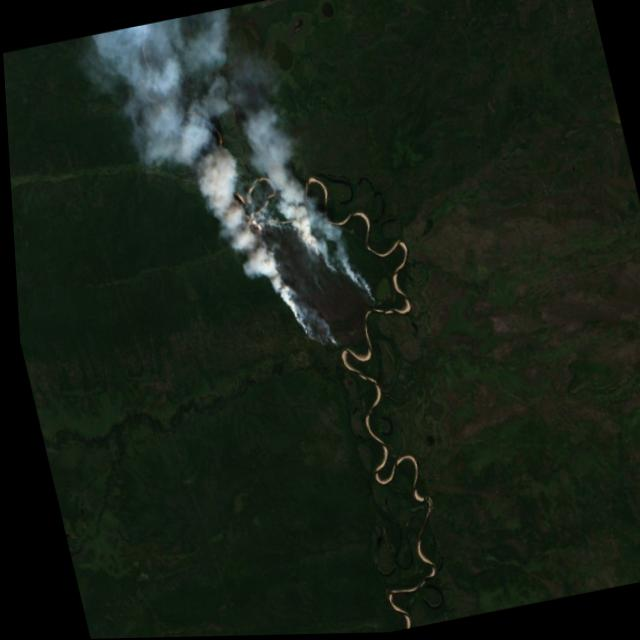fire: (234, 193, 384, 362)
